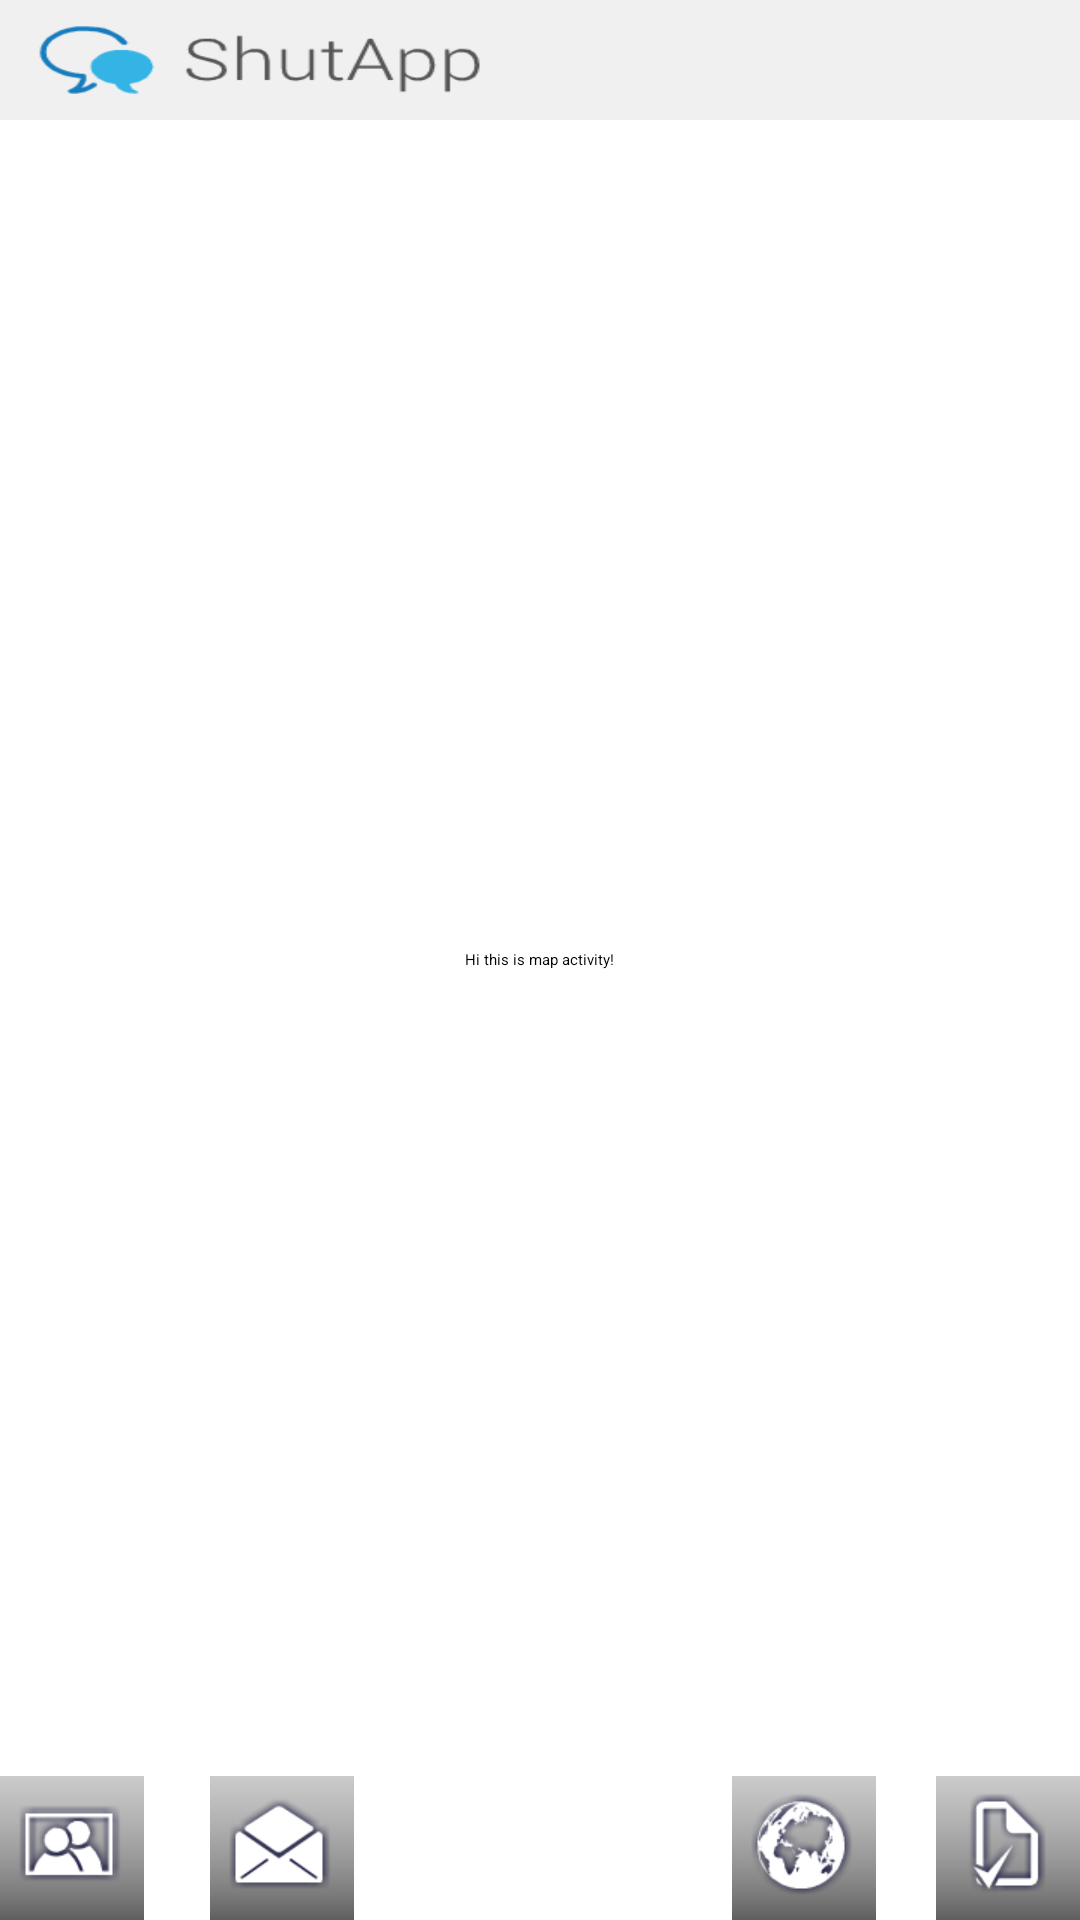

Named icons in this screenshot (1080px x 1920px) and their centers, point (x, y):
location map: point (804, 1848)
social group: point (72, 1848)
